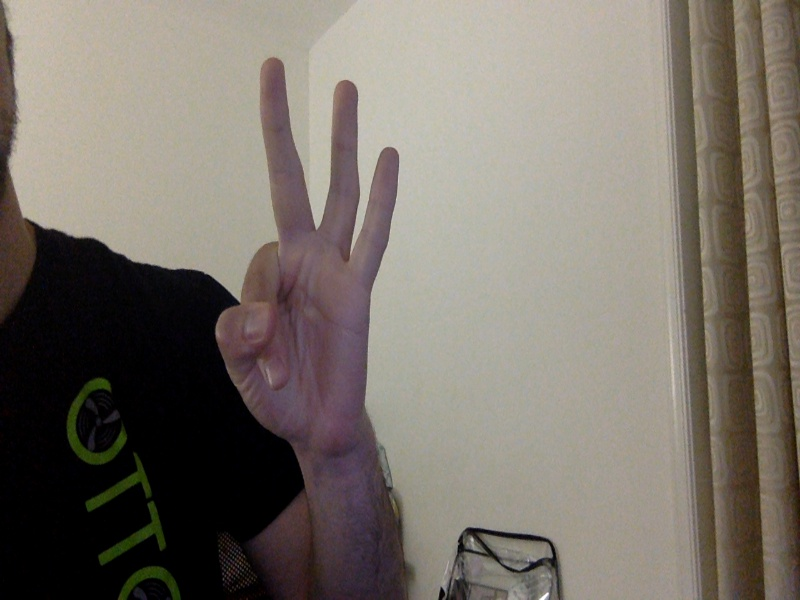3-hand: (210, 57, 401, 452)
